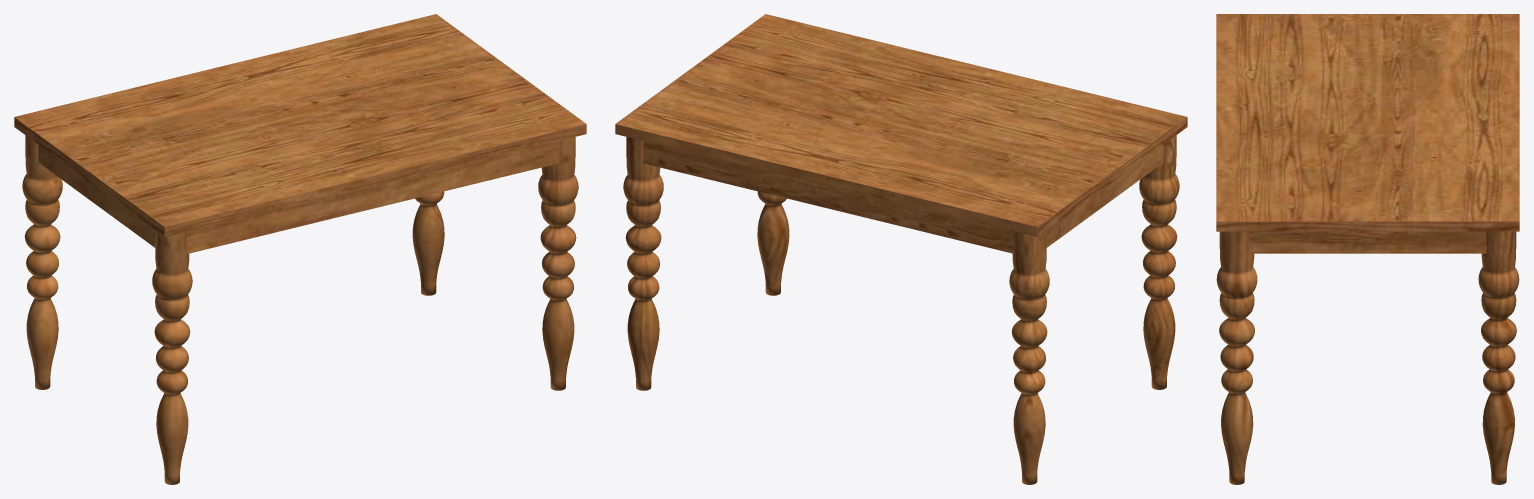
The model's file is Table17.glb.
The picture shows the model from 3 angles, left to right: view 1: azimuth 30°, elevation 25°; view 2: azimuth 150°, elevation 25°; view 3: azimuth 270°, elevation 25°; orthographic projection.
Visible parts, largest first — view 1: Table17_model; view 2: Table17_model; view 3: Table17_model.
Boxes of the visible parts, x1=… form: Table17_model: x1=14, y1=14, x2=586, y2=484; Table17_model: x1=615, y1=14, x2=1187, y2=484; Table17_model: x1=1216, y1=14, x2=1519, y2=484.
Size of the model in its own units: 2.64 by 1.59 by 1.63.
Materials: 1 (1 with a texture image).
